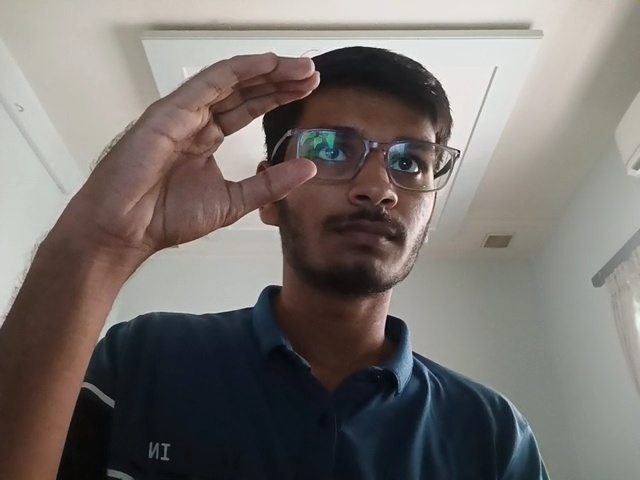No: (94, 47, 318, 275)
